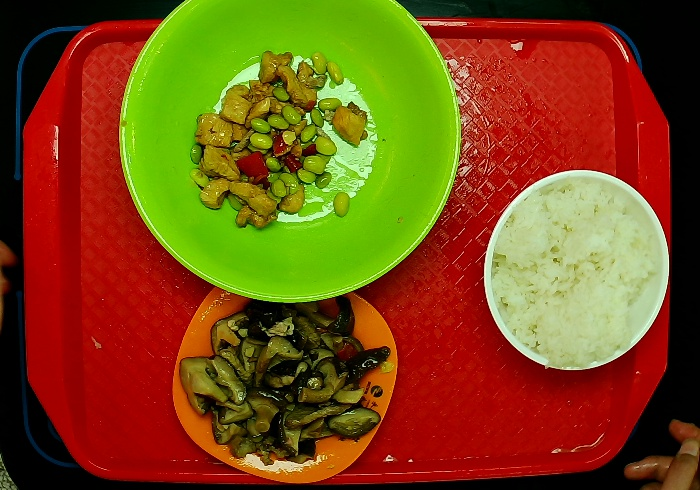YKMZ-Fan_Wan: (468, 162, 680, 374)
YKMZ-Ju_Se_Fang_Die: (162, 251, 408, 490)
YKMZ-Lv_Se_Tang_Wan: (103, 1, 465, 317)
